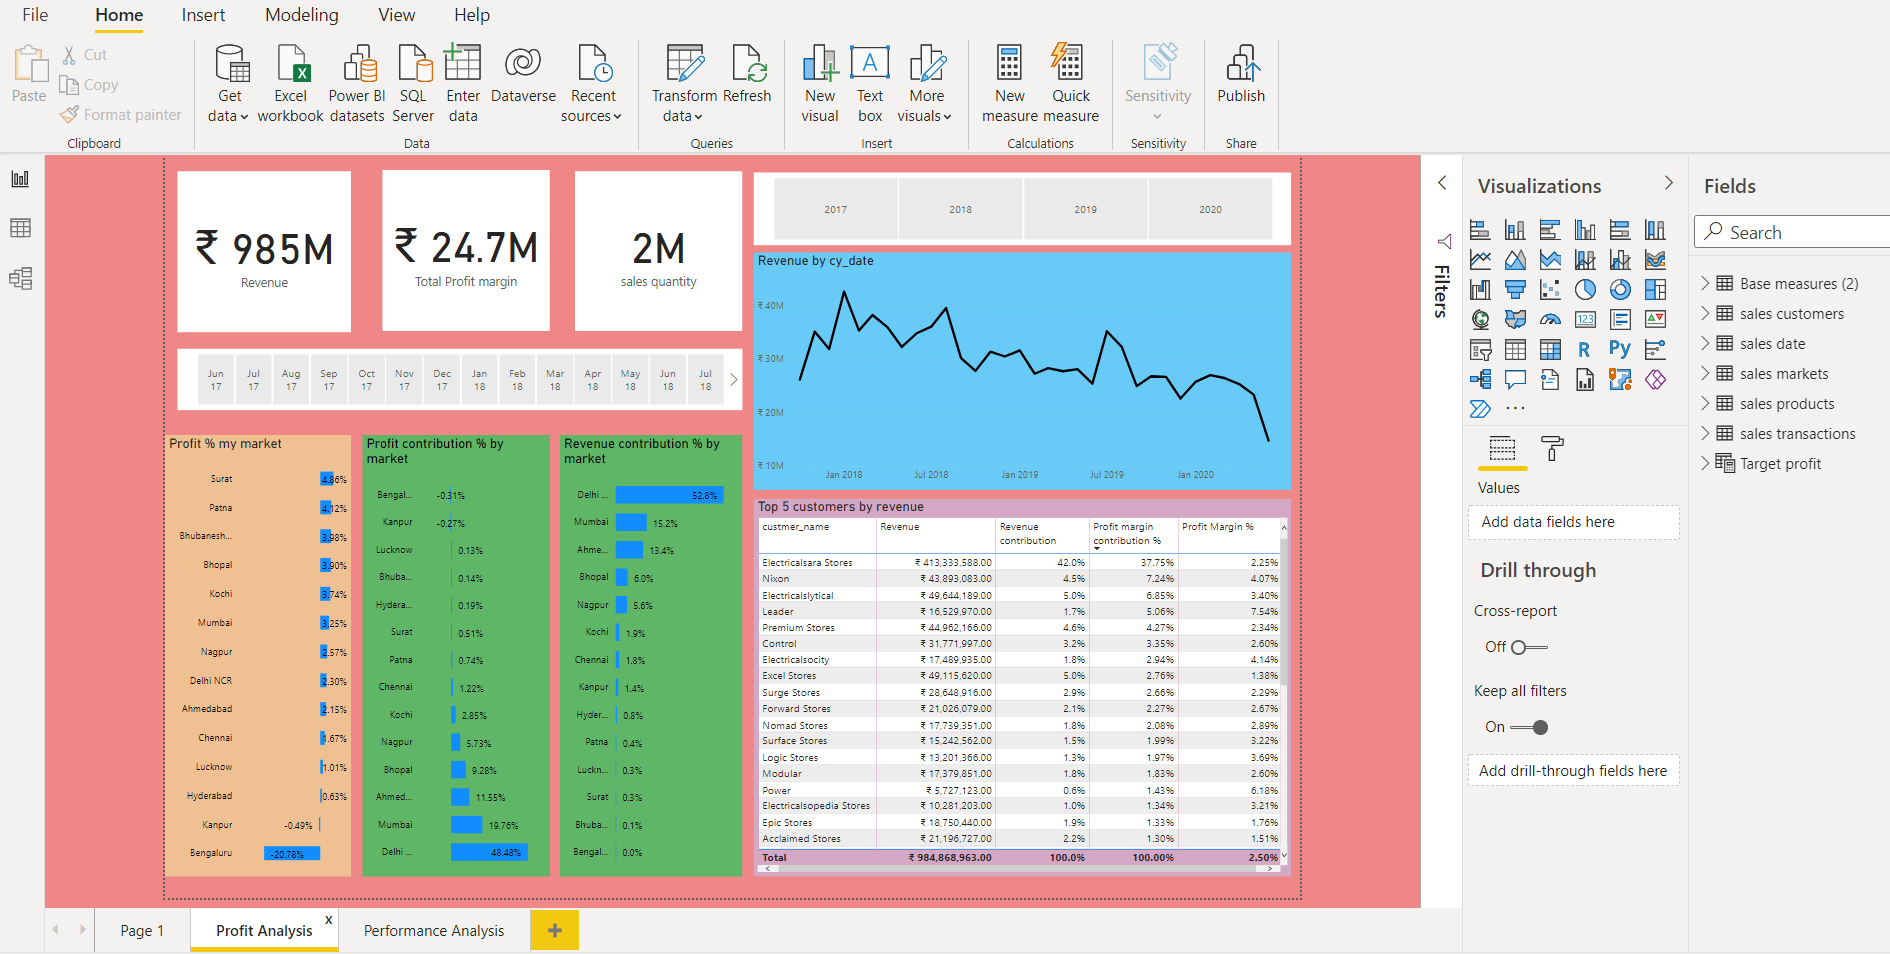

Layout of this report page (visuals, bound fields, positions):
{"tool":"powerbi","page":{"name":"Profit Analysis","canvas":[1450,950],"ordinal":1},"visuals":[{"type":"card","fields":{"Values":["Base measures (2).Revenue"]},"box":[16,20.8,221.9,206],"z":0},{"type":"card","fields":{"Values":["Base measures (2).sales quantity"]},"box":[523.7,20.8,213.9,204.4],"z":1000},{"type":"barChart","title":"Profit % my market","fields":{"Category":["sales markets.markets_name"],"Y":["Base measures (2).Profit Margin %"]},"box":[0,357.6,237.9,563.6],"z":2000},{"type":"barChart","title":"Profit contribution % by market","fields":{"Category":["sales markets.markets_name"],"Y":["Base measures (2).Profit margin contribution %"]},"box":[252.3,357.6,239.5,563.6],"z":3000},{"type":"slicer","fields":{"Values":["sales date.year"]},"box":[752,22.4,686.6,92.6],"z":4000},{"type":"slicer","fields":{"Values":["sales date.cy_date"]},"box":[16,247.5,721.7,78.2],"z":5000},{"type":"lineChart","fields":{"Y":["Base measures (2).Revenue"],"Category":["sales date.cy_date"]},"box":[752,124.5,686.6,303.4],"z":6000},{"type":"tableEx","title":"Top 5 customers by revenue","fields":{"Values":["sales customers.custmer_name","Base measures (2).Revenue","Base measures (2).Revenue contribution","Base measures (2).Profit margin contribution %","Base measures (2).Profit Margin %"]},"box":[752,439.1,686.6,482.2],"z":7000},{"type":"card","fields":{"Values":["Base measures (2).Total profit"]},"box":[277.8,19.2,213.9,206],"z":8000},{"type":"barChart","title":"Revenue contribution % by market","fields":{"Category":["sales markets.markets_name"],"Y":["Base measures (2).Revenue contribution"]},"box":[504.5,357.6,233.1,563.6],"z":9000}]}

Visuals, with their boxes on the page's 1450x950 design canvas (x1, y1, x2, y2). These are canvas units, not pixel positions in the 1890x954 screenshot, which may show the page scaled, cropped or inside an application window:
card - Base measures (2).Revenue: [left=16, top=21, right=238, bottom=227]
card - Base measures (2).sales quantity: [left=524, top=21, right=738, bottom=225]
"Profit % my market" barChart: [left=0, top=358, right=238, bottom=921]
"Profit contribution % by market" barChart: [left=252, top=358, right=492, bottom=921]
slicer - sales date.year: [left=752, top=22, right=1439, bottom=115]
slicer - sales date.cy_date: [left=16, top=248, right=738, bottom=326]
lineChart - Base measures (2).Revenue x sales date.cy_date: [left=752, top=124, right=1439, bottom=428]
"Top 5 customers by revenue" tableEx: [left=752, top=439, right=1439, bottom=921]
card - Base measures (2).Total profit: [left=278, top=19, right=492, bottom=225]
"Revenue contribution % by market" barChart: [left=504, top=358, right=738, bottom=921]
